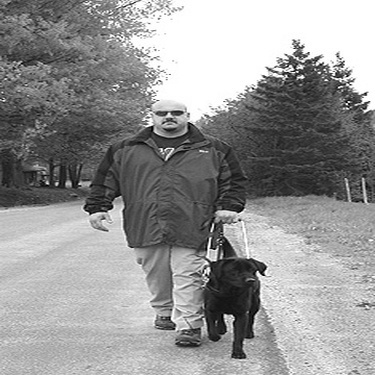dog: (149, 227, 273, 360)
